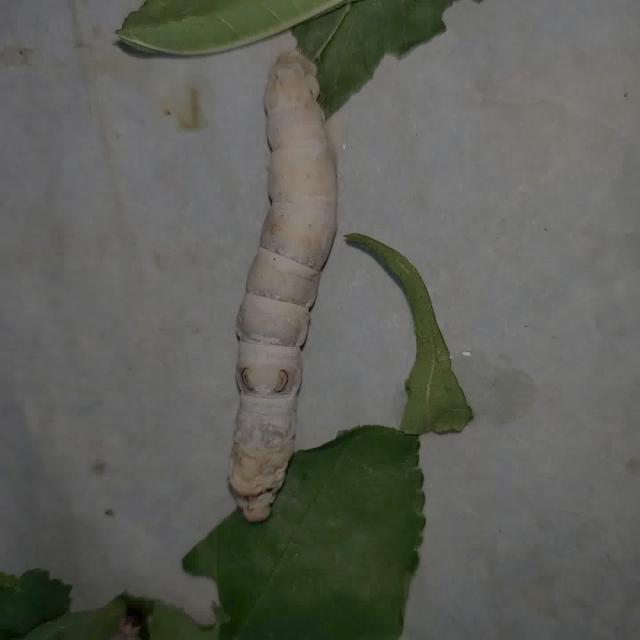Grasserie: (205, 30, 362, 539)
